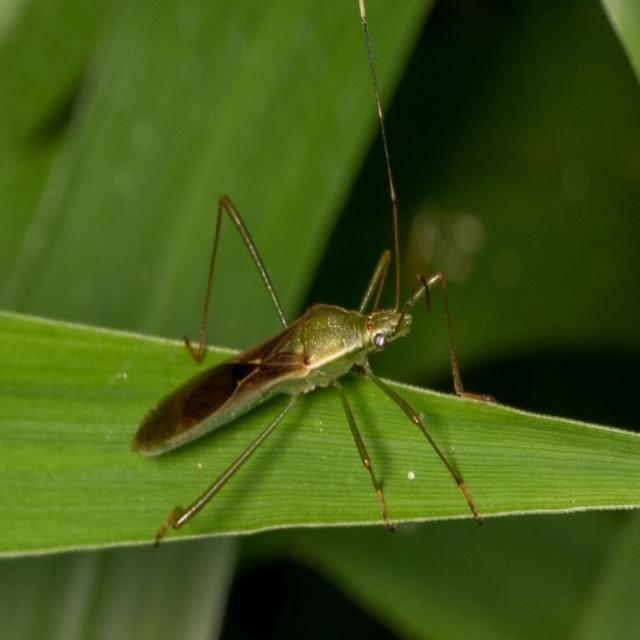walang sangit pada tanaman padi: (115, 0, 502, 570)
